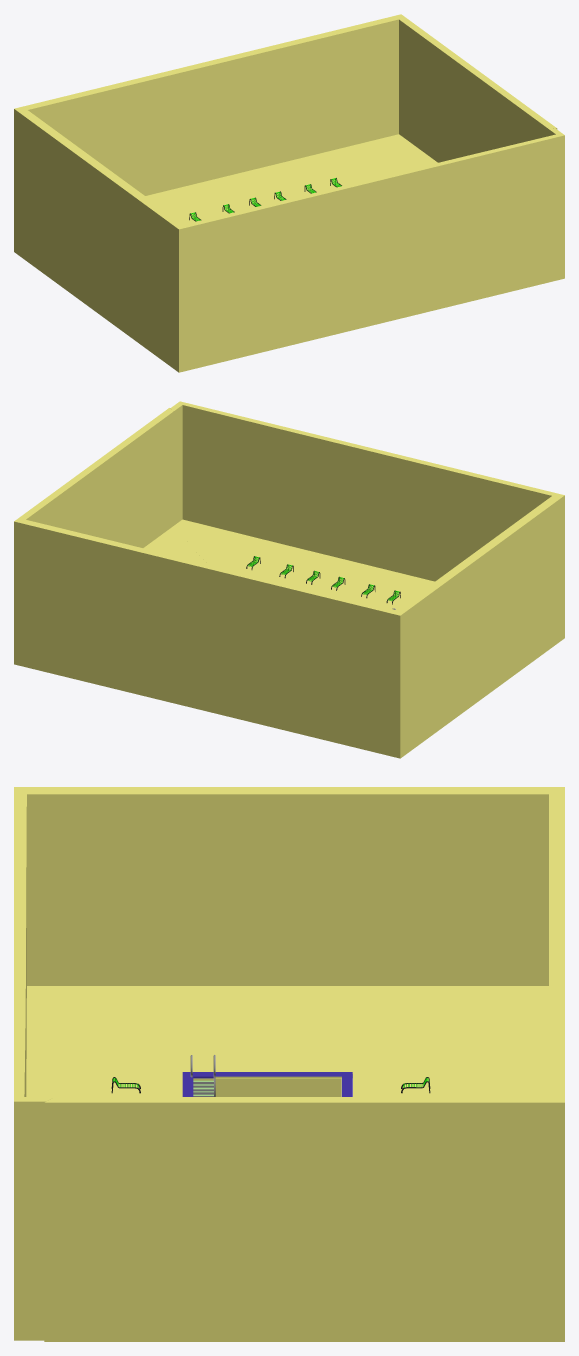
The model's file is pool2.dae.
3 renders of one model, top to bottom at view 1: azimuth 30°, elevation 25°; view 2: azimuth 150°, elevation 25°; view 3: azimuth 270°, elevation 25°, orthographic. The views are drawn at different scales.
Visible parts, largest first — view 1: Pool; view 2: Pool; view 3: Pool.
Part boxes in pixels (x1,y1,x2,y2): Pool: [14, 14, 564, 372]; Pool: [14, 401, 564, 758]; Pool: [14, 787, 564, 1341].
Bounding box in the file's own units: 70.18 × 51.79 × 24.87.
